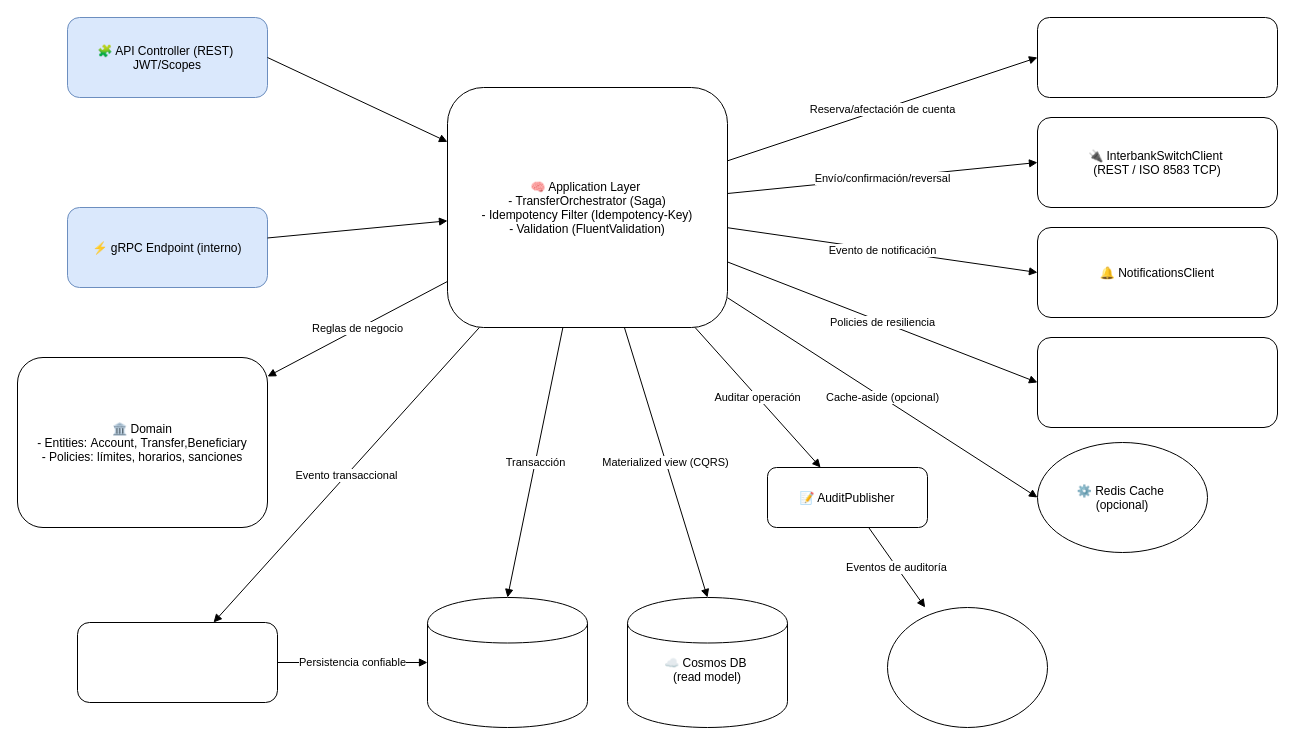
This 1295x745 diagram has some shape labels left out. The centre of each missing label's shape, as x and y in pixels:
"📦 Outbox / Inbox" goes at point 177,662.
"📩 Azure Service Bus (Topics/Queues)" goes at point 967,667.
"🔌 CoreBankingClient (REST/SOAP)" goes at point 1157,57.
"🗄️ Azure SQL Database (operacional)" goes at point 507,662.
"🛡️ Resiliencia (Polly) - Retry + jitter - Timeout - Circuit Breaker" goes at point 1157,382.
